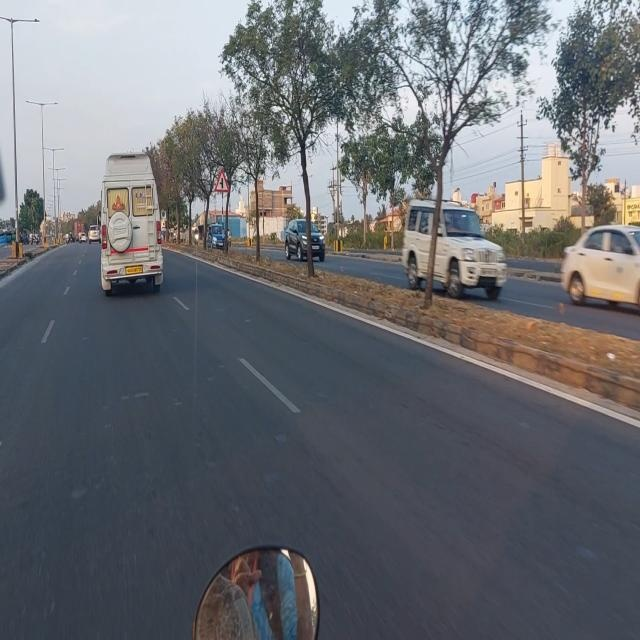bien_nguy_hiem: (214, 165, 230, 196)
